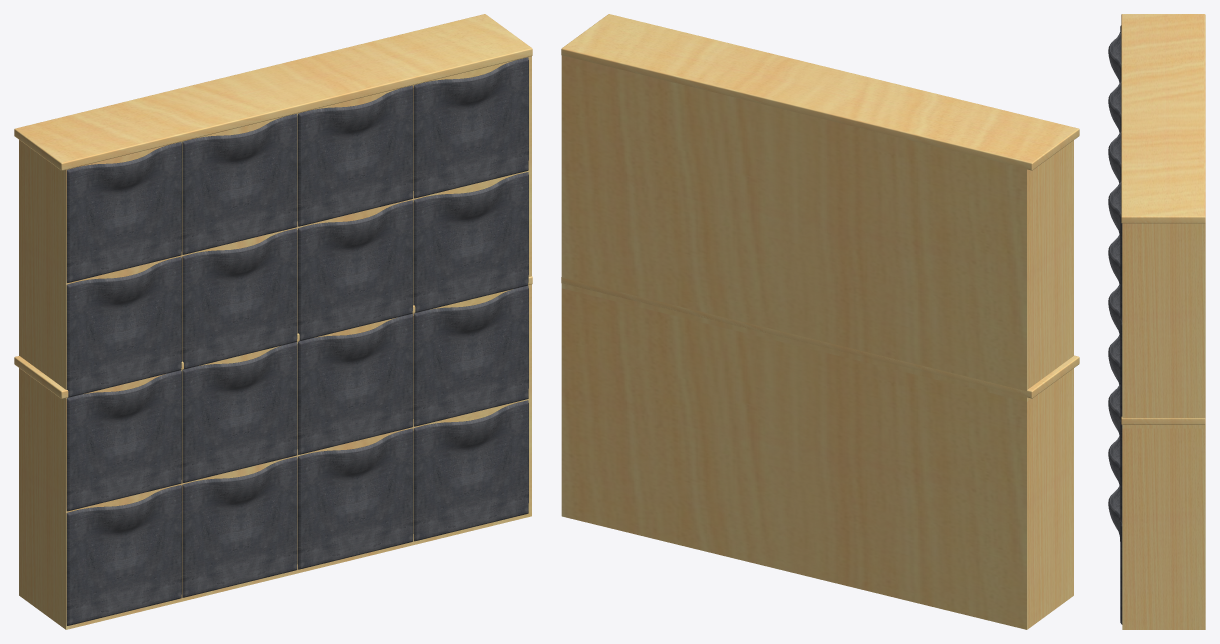
Rendered from Storage.fbx.
3 renders of one model, left to right at view 1: azimuth 30°, elevation 25°; view 2: azimuth 150°, elevation 25°; view 3: azimuth 270°, elevation 25°, orthographic. The views are drawn at different scales.
Visible parts, largest first — view 1: Top001, Case, Case001, Slot7, Slot012, Slot010, Slot4, Slot6, Slot8, Slot009, Slot2, Slot1 (+8 smaller); view 2: Case001, Case, Top001, Top; view 3: Top001, Case, Case001, Slot012, Slot4, Slot6, Slot014, Top, Slot009, Slot010, Slot011, Slot013 (+2 smaller).
Part boxes in pixels (<box>): Top001: <box>14,14,532,170</box>; Case: <box>19,284,531,629</box>; Case001: <box>19,56,531,401</box>; Slot7: <box>182,456,297,597</box>; Slot012: <box>413,57,528,198</box>; Slot010: <box>182,114,297,254</box>; Slot4: <box>413,285,528,426</box>; Slot6: <box>413,400,528,541</box>; Slot8: <box>66,485,181,625</box>; Slot009: <box>66,142,181,282</box>; Slot2: <box>182,342,297,483</box>; Slot1: <box>66,370,181,511</box>; Case001: <box>561,55,1073,401</box>; Case: <box>561,288,1073,629</box>; Top001: <box>561,14,1079,170</box>; Top: <box>561,277,1079,398</box>; Top001: <box>1121,14,1205,223</box>; Case: <box>1122,428,1205,629</box>; Case001: <box>1122,223,1205,428</box>; Slot012: <box>1108,175,1122,321</box>; Slot4: <box>1108,383,1122,523</box>; Slot6: <box>1108,484,1122,624</box>; Slot014: <box>1108,283,1122,421</box>; Top: <box>1121,416,1205,424</box>; Slot009: <box>1108,25,1121,82</box>; Slot010: <box>1108,75,1121,132</box>; Slot011: <box>1108,125,1121,182</box>; Slot013: <box>1108,234,1120,283</box>.
Size of the model in its own units: 178 by 169 by 36.09.
Materials: 2 (2 with a texture image).
